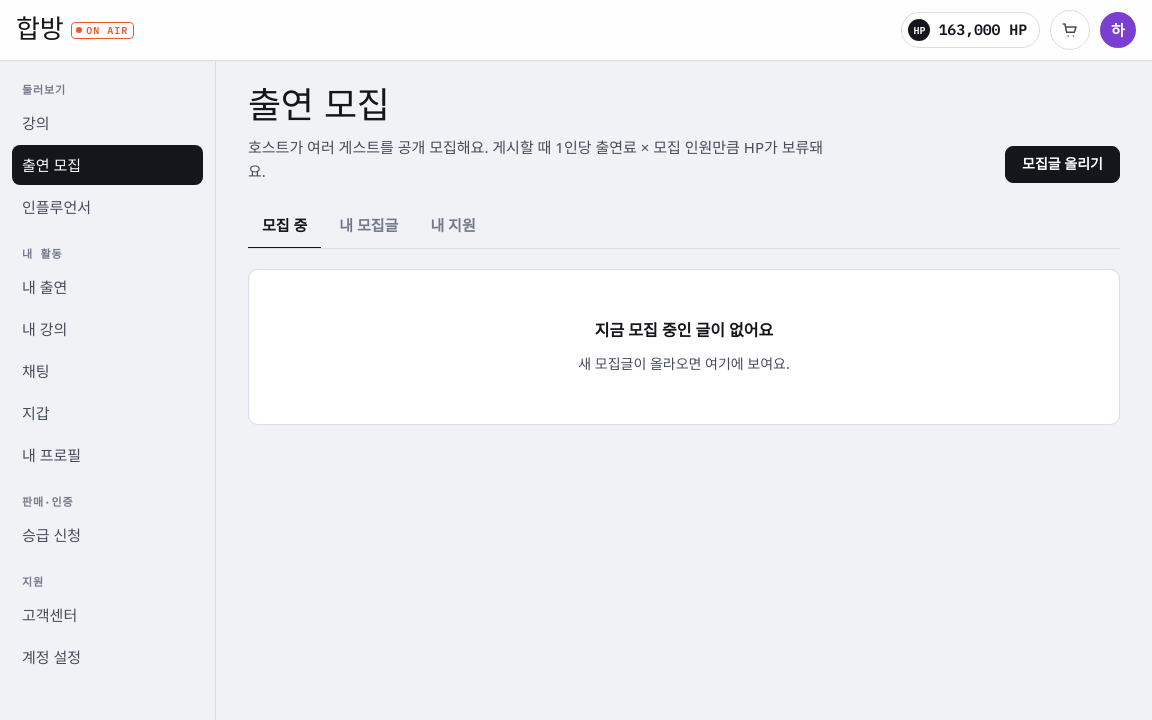
Scenario: 모집글 올리기 › HP 보류가 지연되면(503) 다시 보내지 않고 내 모집글 탭에서 처리 중으로 안내한다
Click the button "모집글 올리기" at x=1063, y=164, box [1005, 146, 1120, 183]
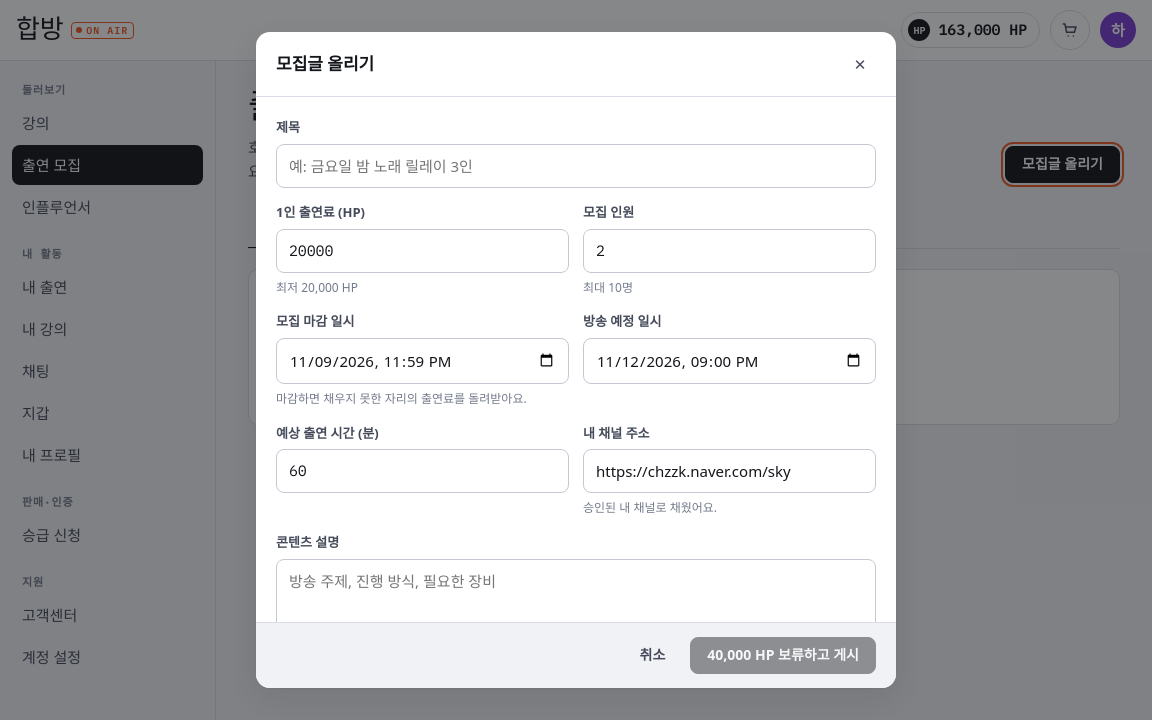
Type "주말 게임 합방 게스트 모집" into the field labelled "제목" at x=576, y=166, box [276, 144, 876, 188]
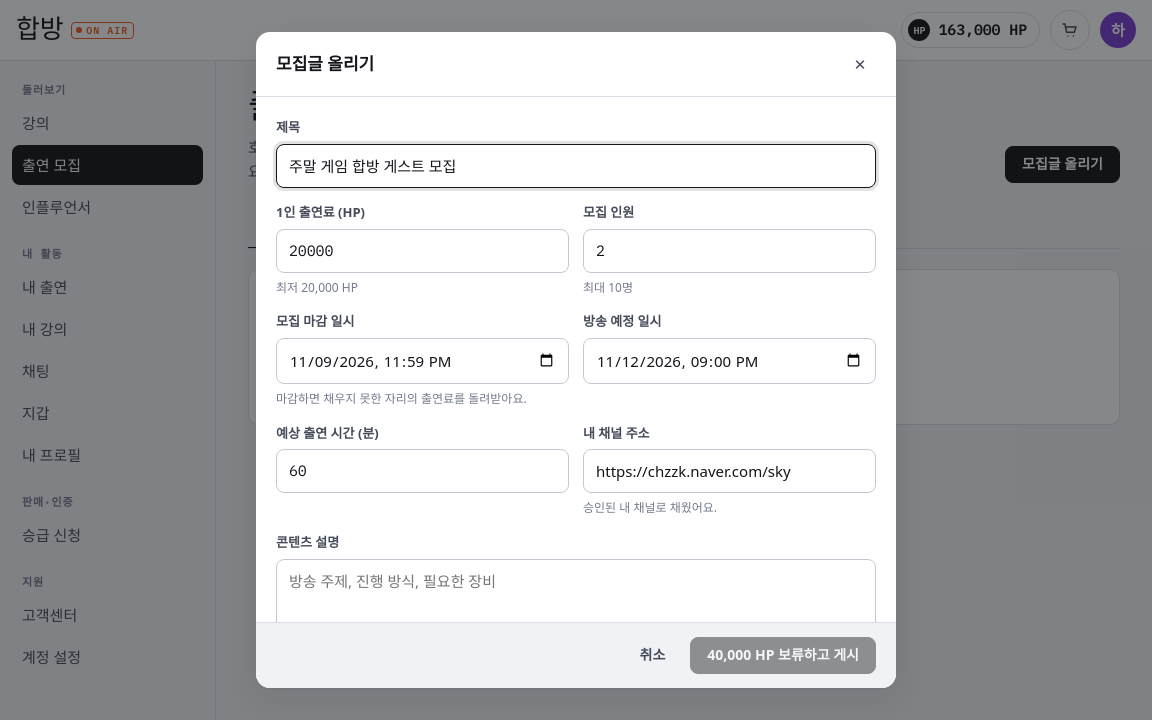
Type "공포 게임 3인 플레이" into the text box labelled "콘텐츠 설명" at x=576, y=603, box [276, 559, 876, 647]
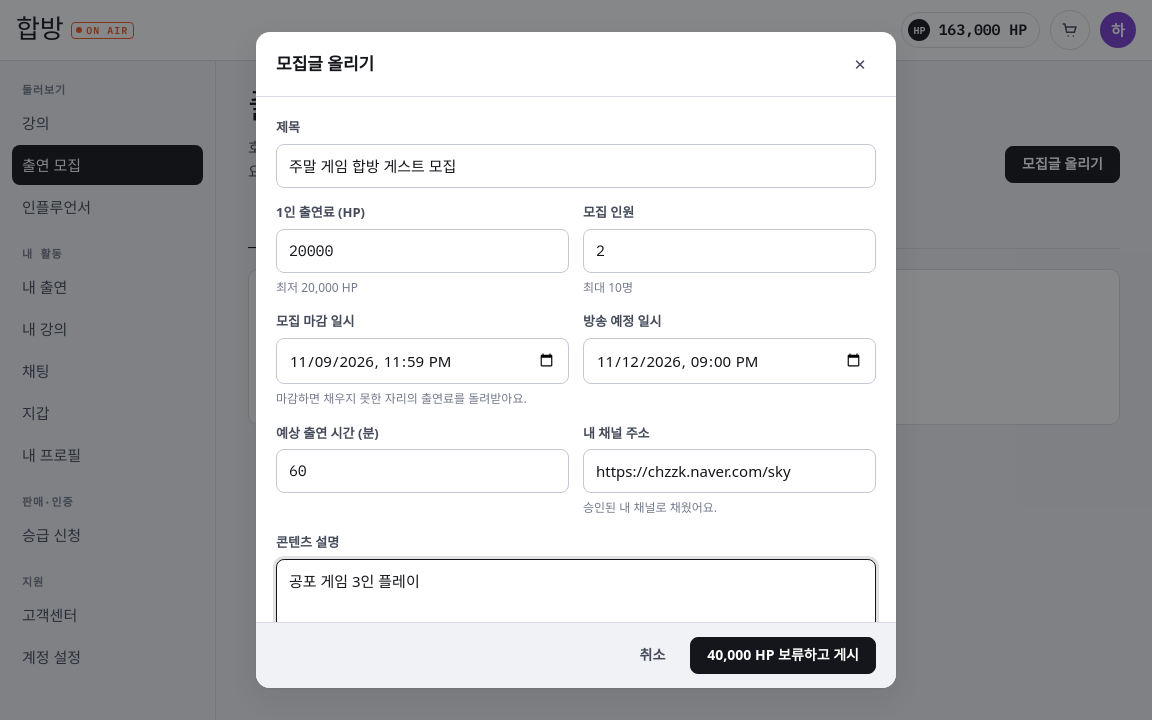
Replace the text in the field labelled "1인 출연료 (HP)" with "30000" at x=422, y=251, box [276, 229, 569, 273]
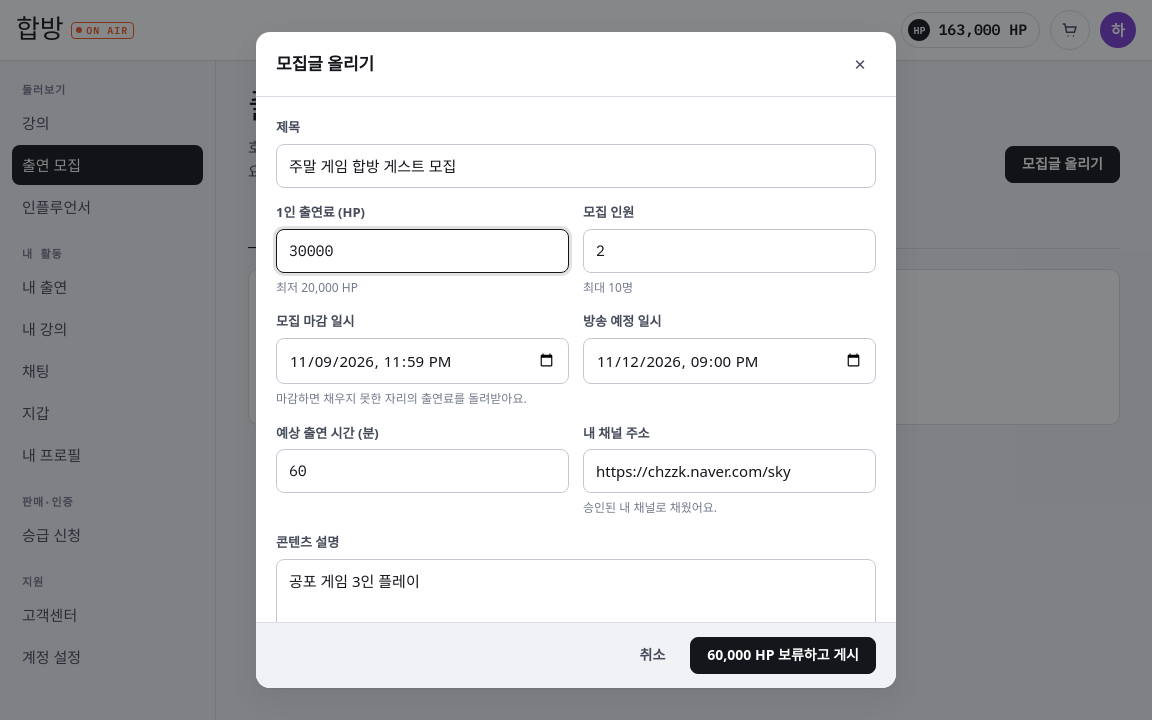
Replace the text in the field labelled "모집 인원" with "3" at x=730, y=251, box [583, 229, 876, 273]
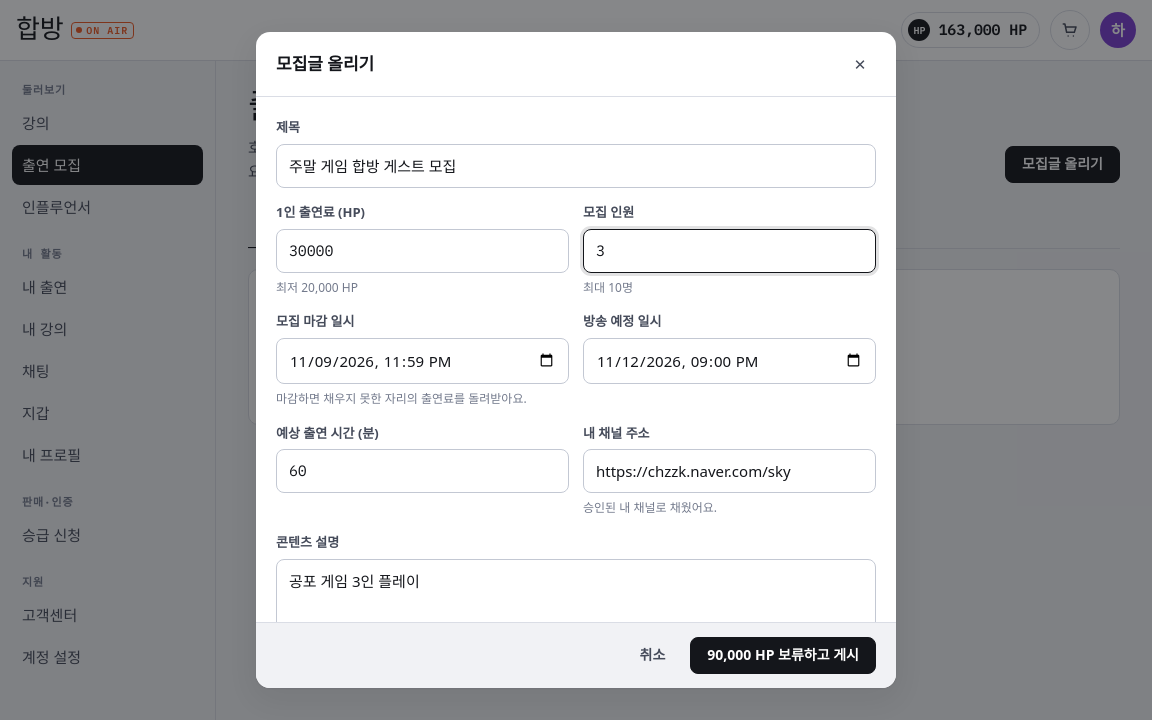
Click the button "90,000 HP 보류하고 게시" at x=783, y=656, box [690, 637, 876, 674]
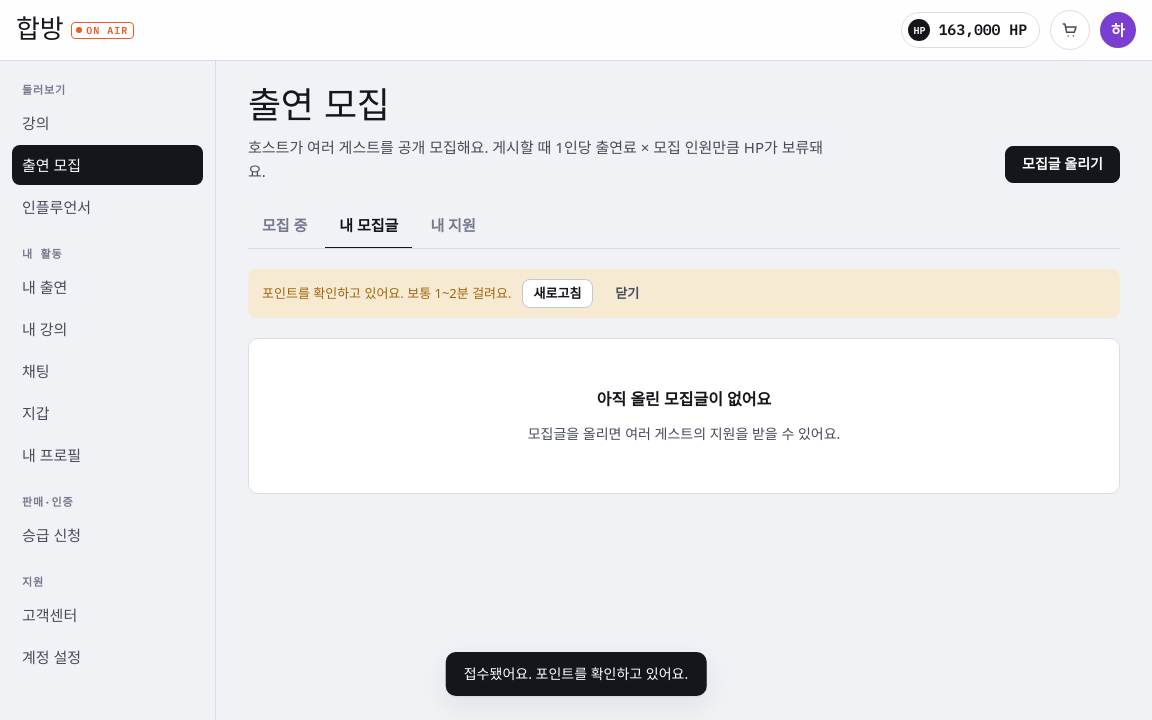
Expected: the message does not show "HP"
Result: the text "포인트를 확인하고 있어요. 보통 1~2분 걸려요." is shown at [262, 283, 512, 304]
